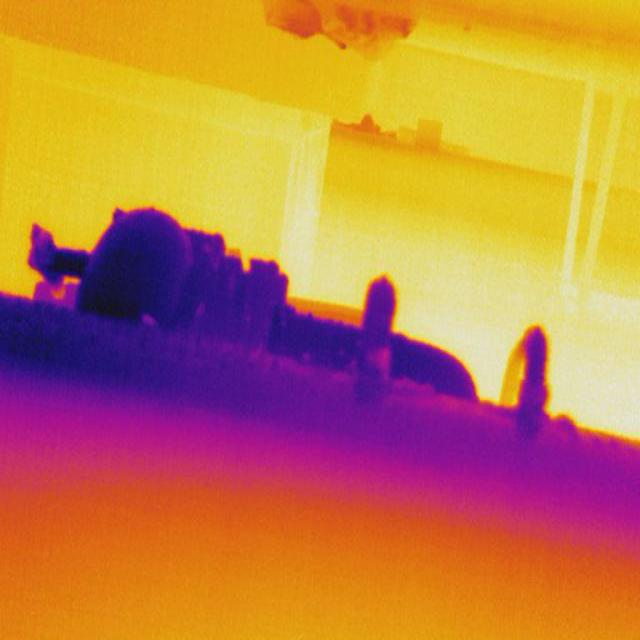leakage: (0, 201, 634, 487)
